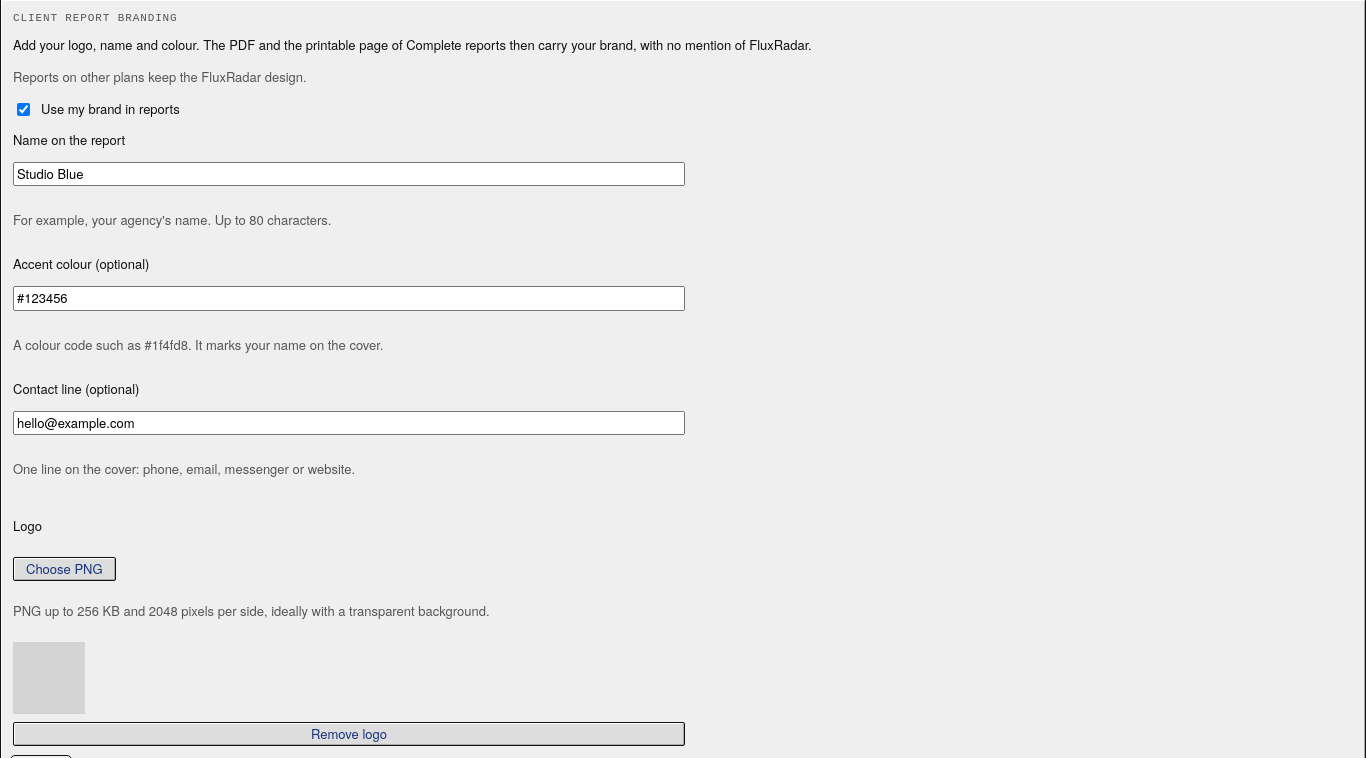
Test: sends the strict body without a stored logo unless a file is chosen
The image size is (1366, 758).
Replace the text in the field labelled "Name on the report" with "New studio" at (349, 174), box [13,162,685,186]
(page scrolled)
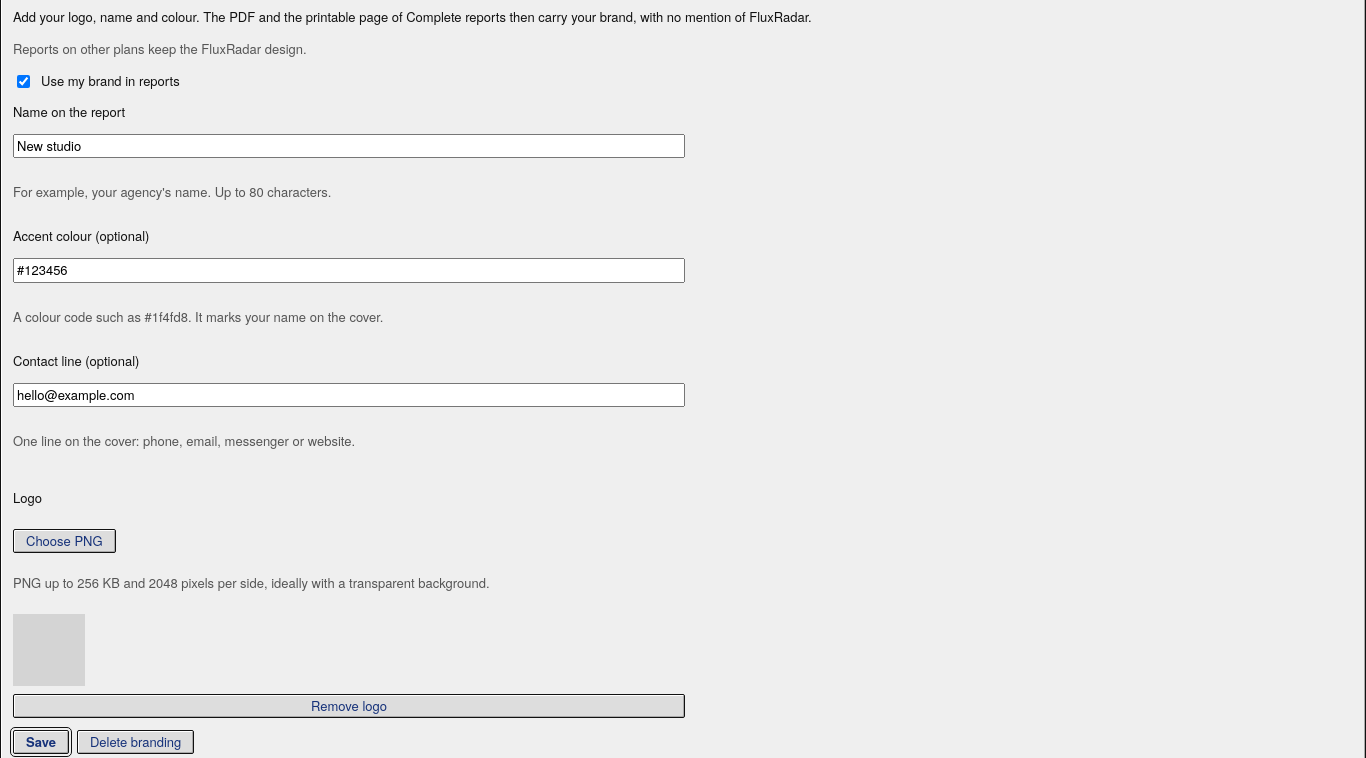
Click the button "Save" at (41, 742), box [13,730,69,754]
(page scrolled)
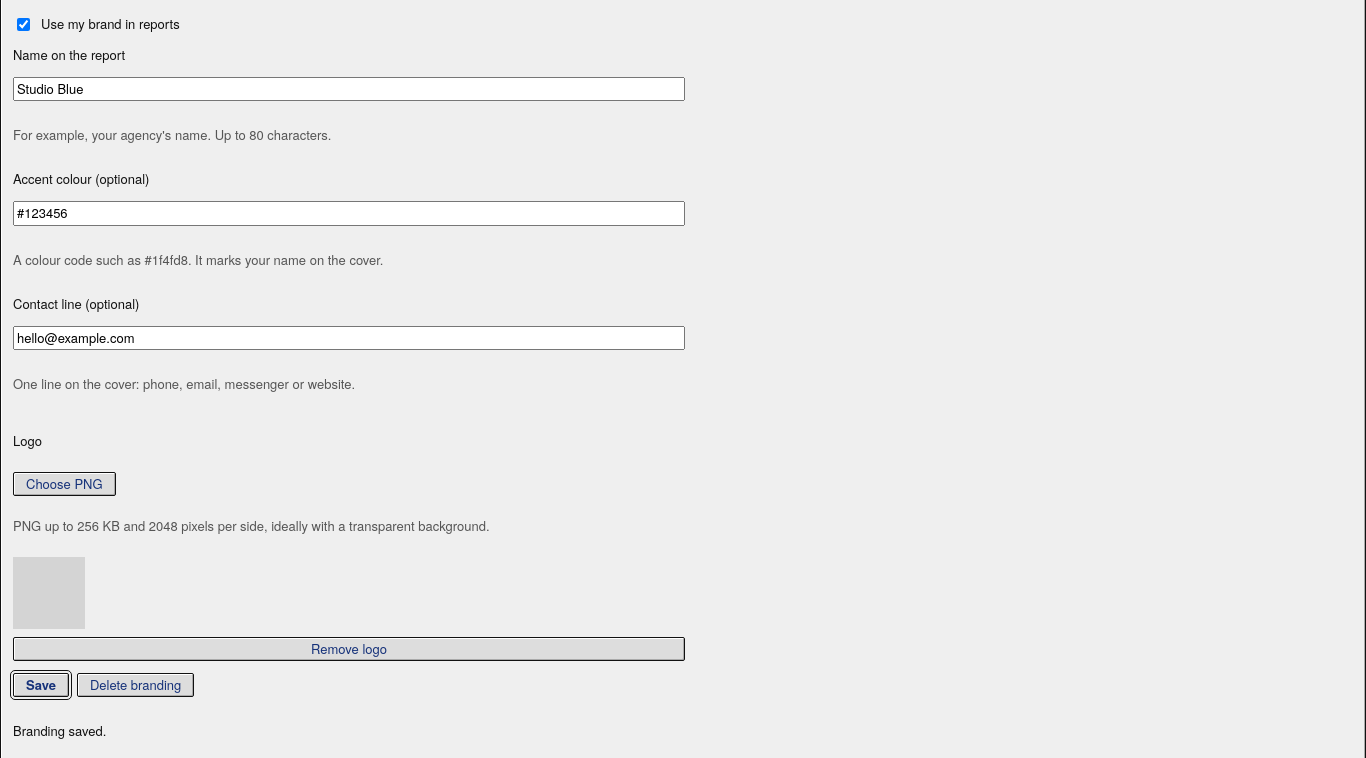
Expected: the text "Branding saved." is shown, [13,721,106,740]
